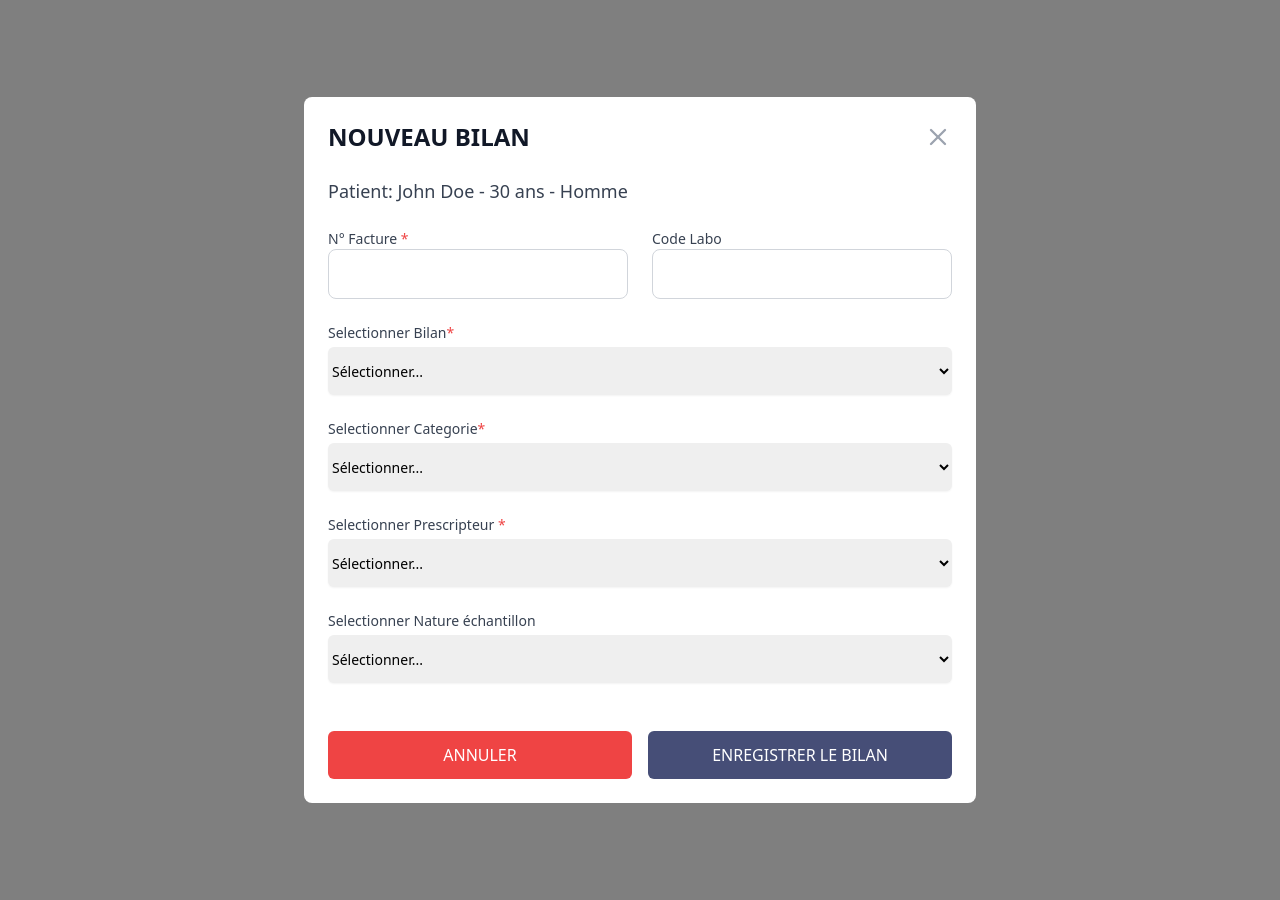
NewBilanModal › shows invoice suggestions when typing invoice number
The width and height of the screenshot is (1280, 900).
Type "FAC" into the field with test id "invoice-number-input" at (478, 274), box [328,249,628,299]
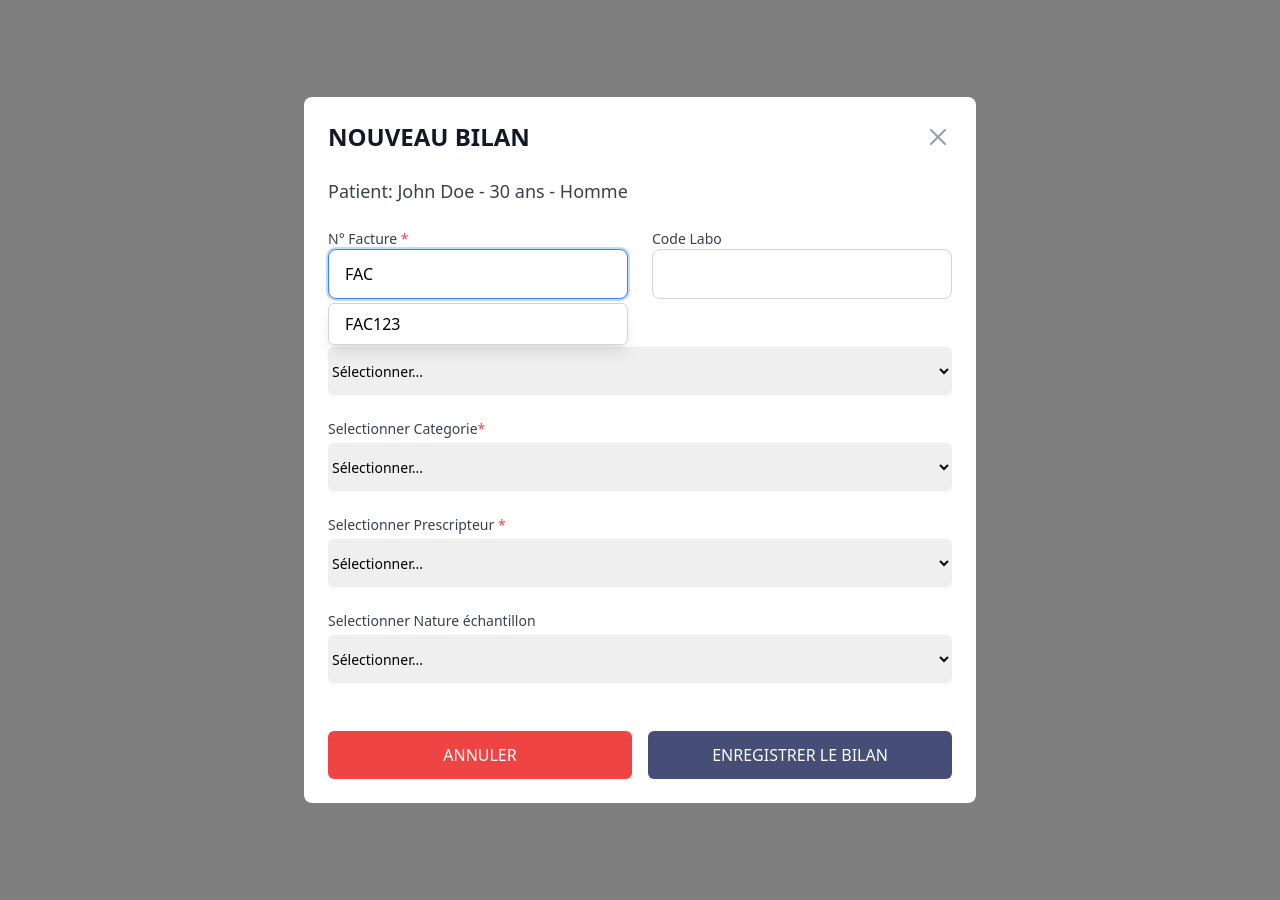
Expected: the element with test id "invoice-suggestions" is shown, [328,303,628,345]
Expected: the button with test id "invoice-suggestion-FAC123" reads "FAC123", [329,304,627,344]
